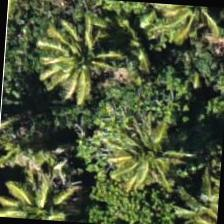Kelapa_Sawit: (36, 15, 132, 111), (108, 112, 204, 208)
